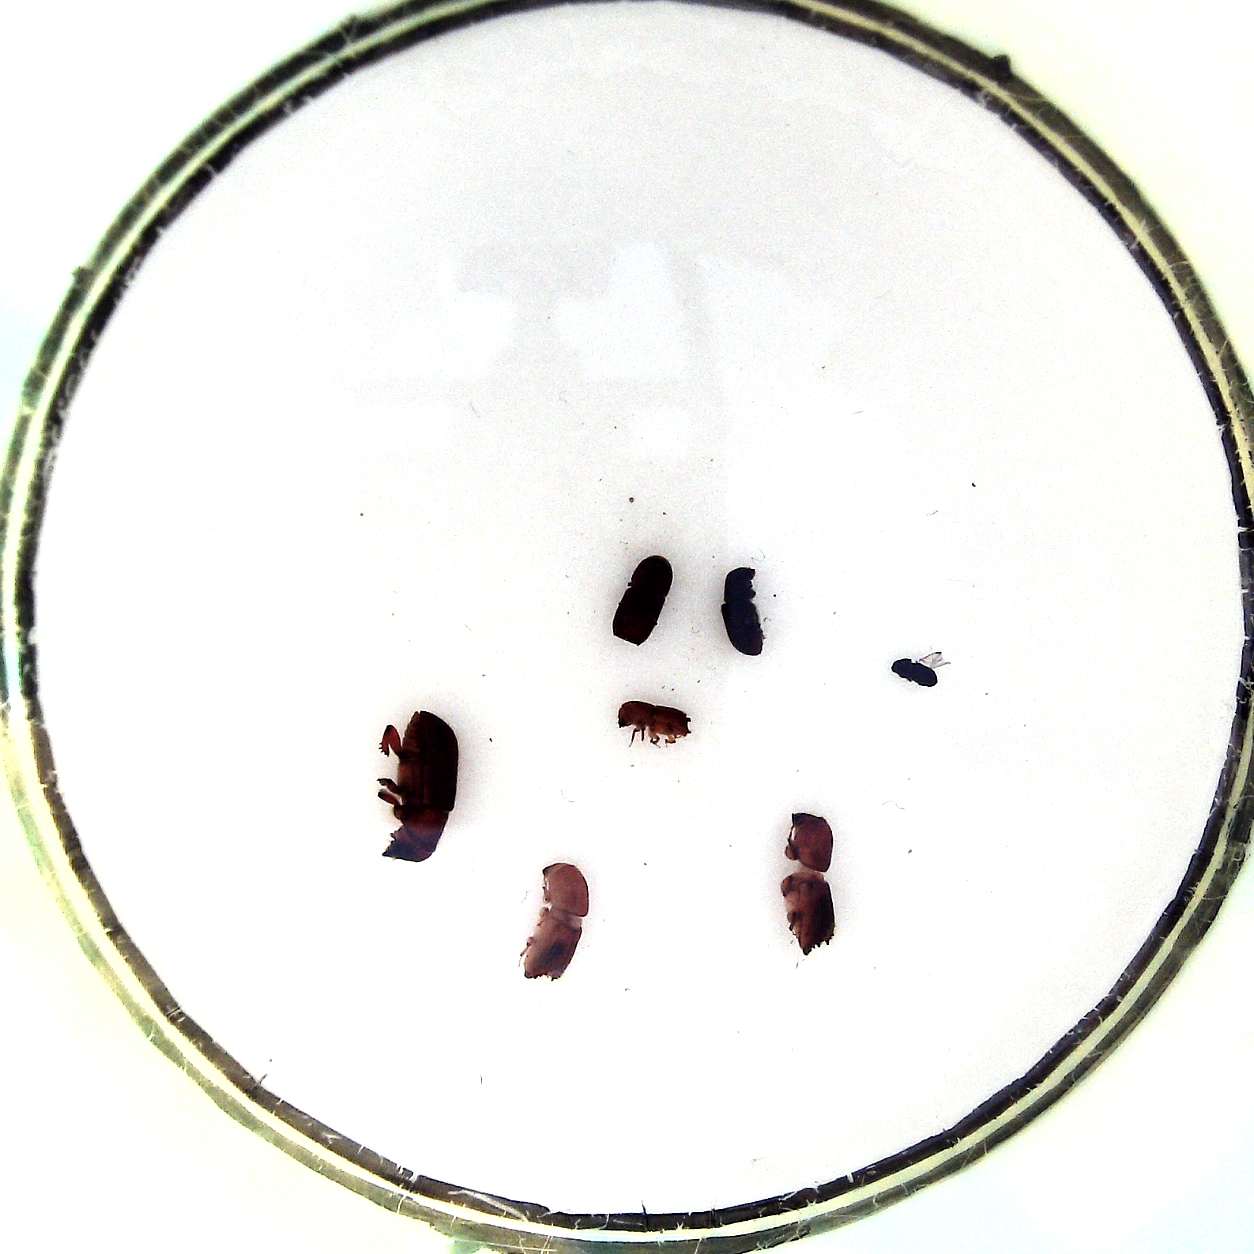Boerner: (779, 808, 844, 960), (514, 860, 595, 981)
Leconte: (376, 707, 462, 866)
Linnaeus: (610, 551, 678, 651)
acuminatus: (613, 697, 698, 750)
armandi: (720, 563, 767, 660)
coleoptera: (888, 648, 947, 692)
